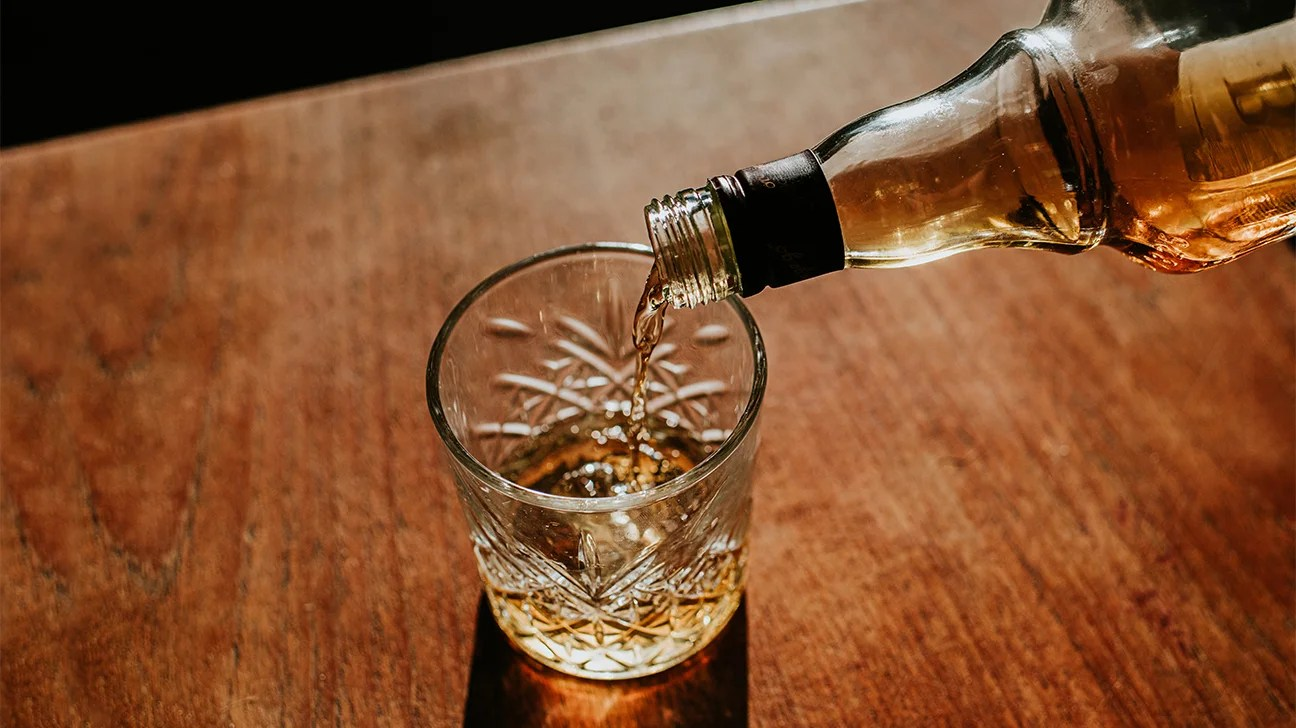Bottle: (649, 3, 1296, 310)
Glass: (413, 237, 767, 684)
